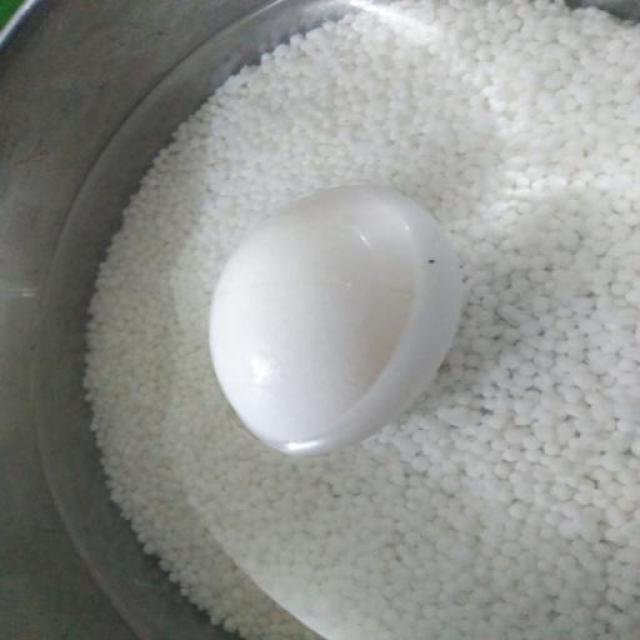telur: (207, 185, 462, 457)
